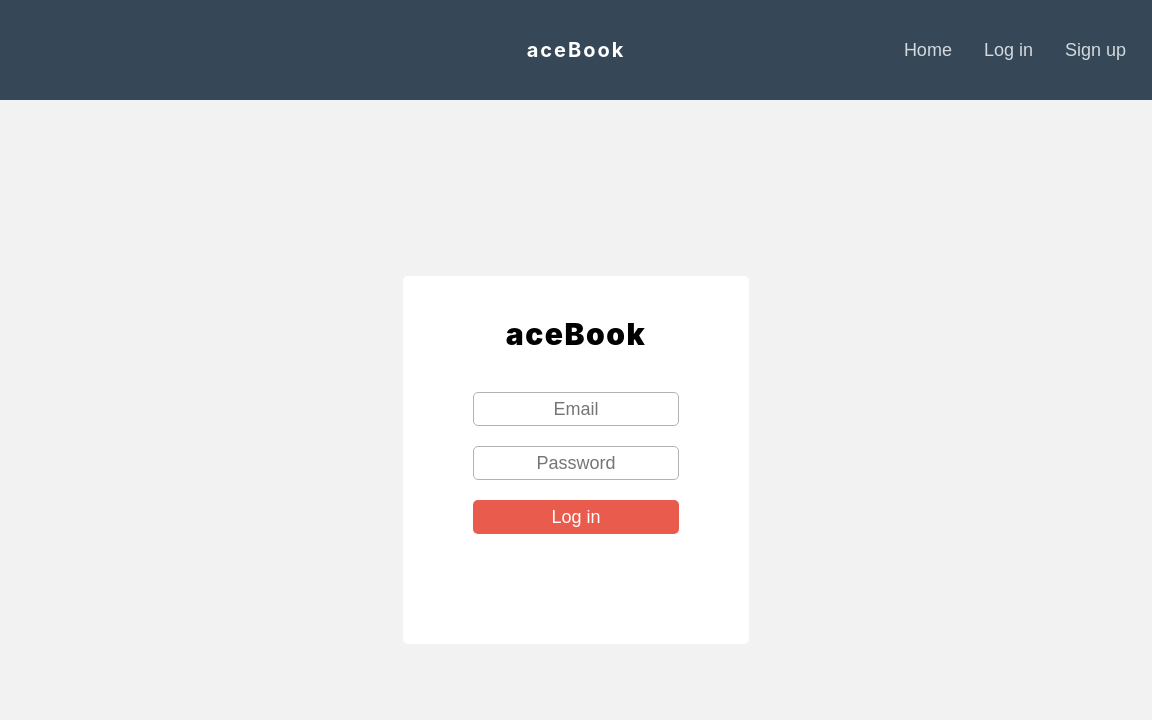
Login Page › displays error message if login fails
Type "test@email.com" into the field with placeholder "Email".
click(576, 409); type("test@email.com")  # box [473,392,679,426]
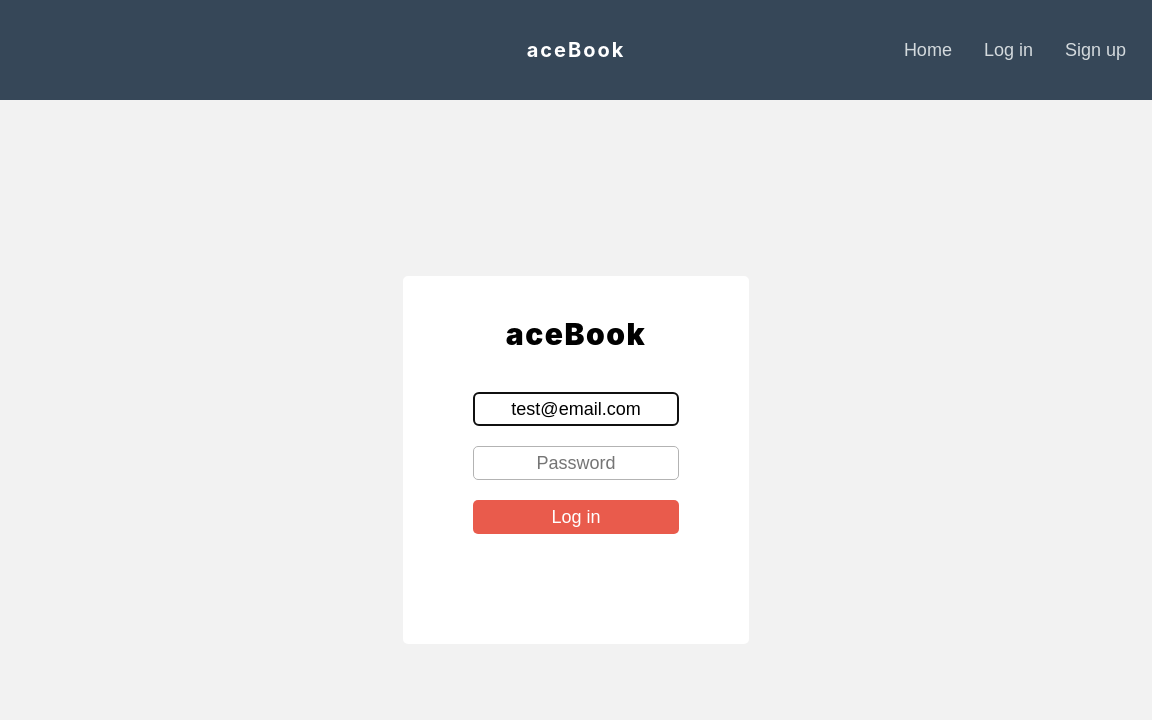
Type "Passw0rd123!T" into the password field with placeholder "Password".
click(576, 463); type("Passw0rd123!T")  # box [473,446,679,480]
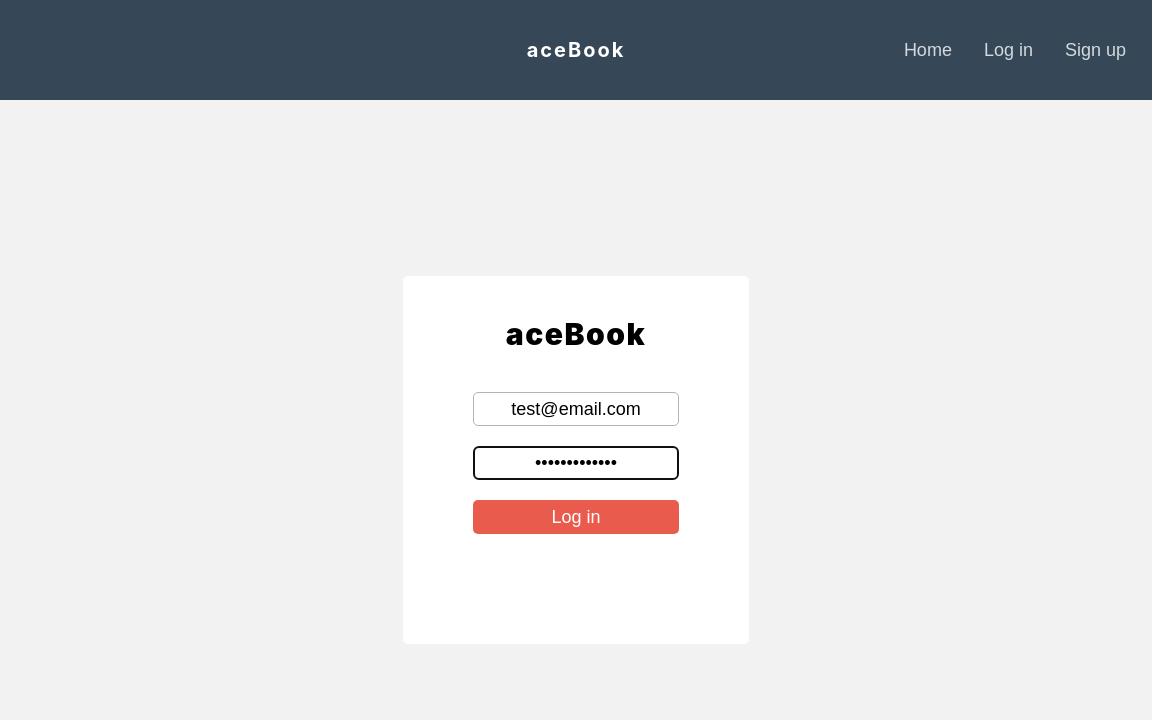
Click the 2nd button "Log in".
click(576, 517)  # box [473,500,679,534]
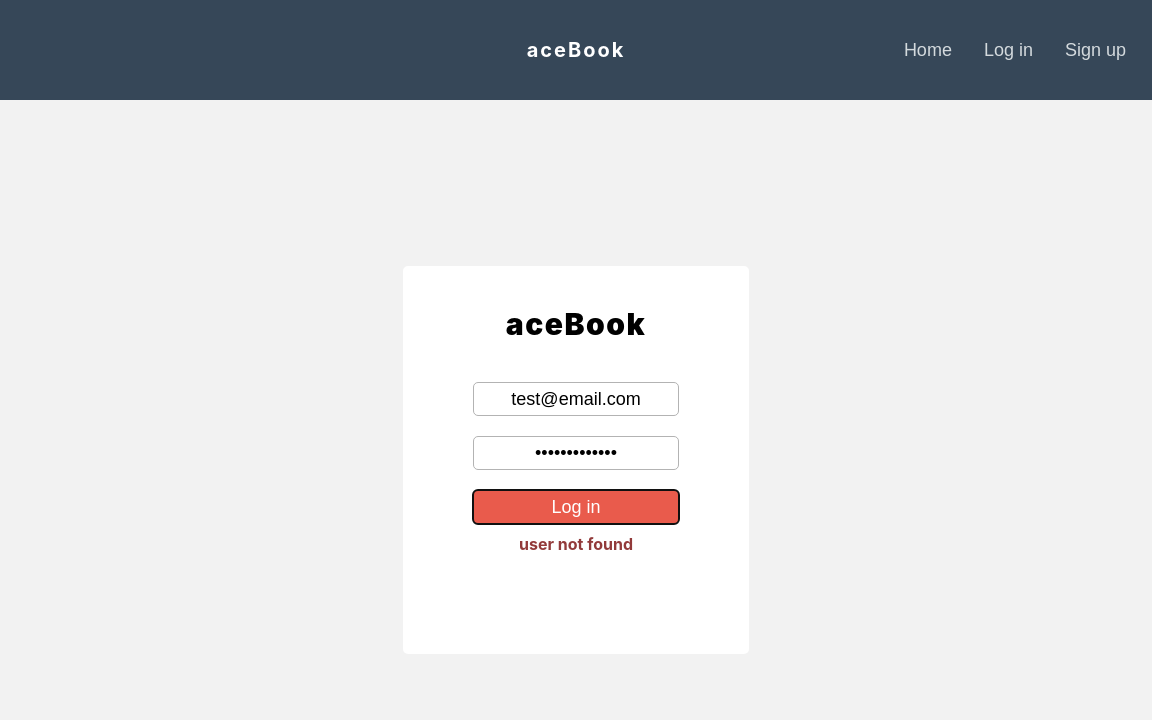
expect the text "user not found" is shown: met, box [519,534,633,554]
